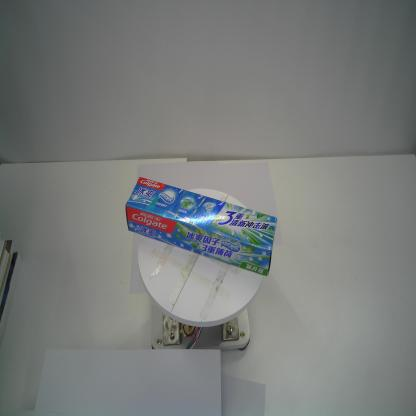Personal Hygiene: (125, 176, 277, 276)
